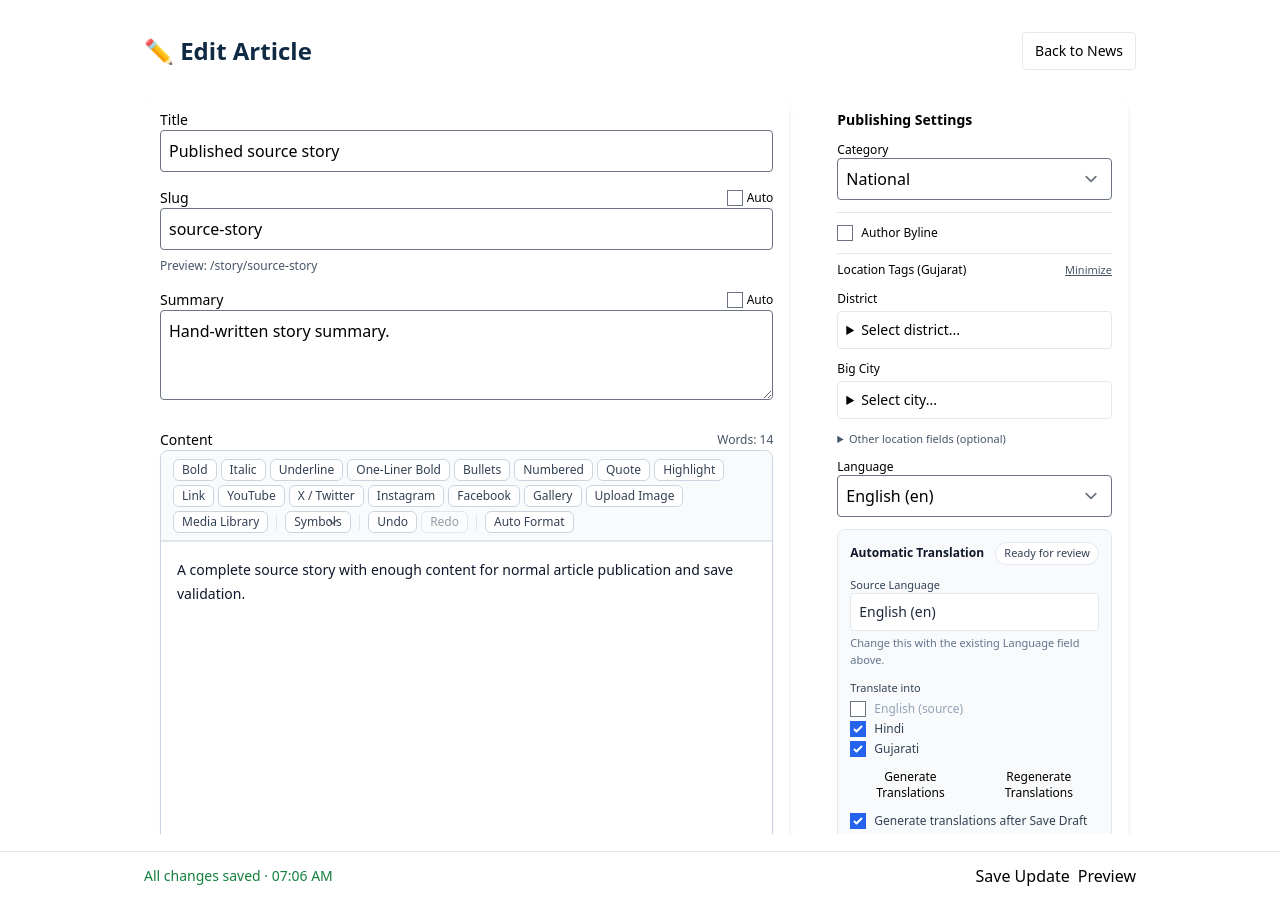
it: Founder Edit Published - Save Update › retains the supported editor and unsaved content if a background article read fails
Replace the text in the field showing "Published source story" below "Title" with "Unsaved page-level edit": (467, 151) left=160, top=130, right=773, bottom=172
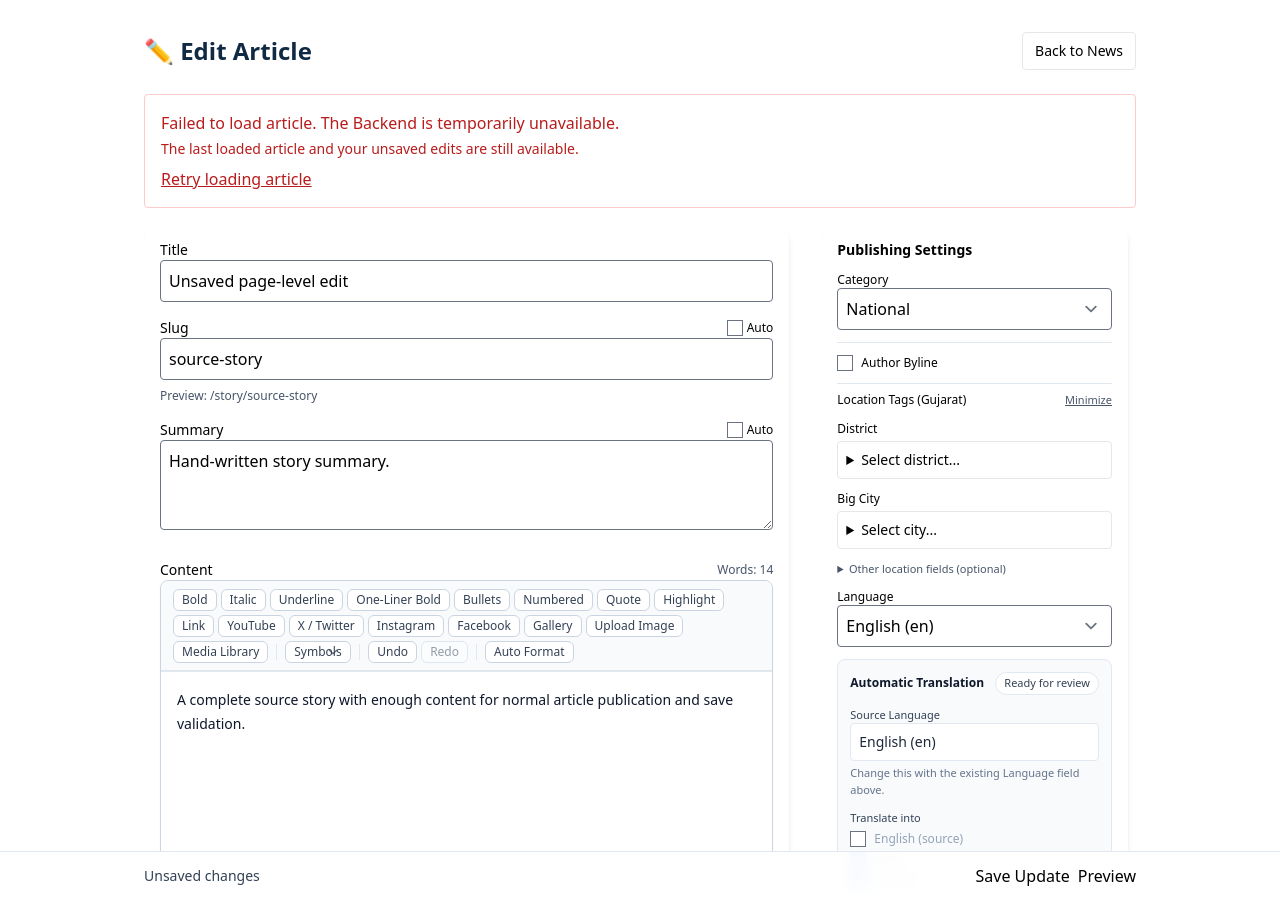
Now the message shows "unsaved edits are still available", box left=161, top=139, right=579, bottom=158
Click the button "Retry loading article": (236, 179) left=161, top=167, right=312, bottom=191
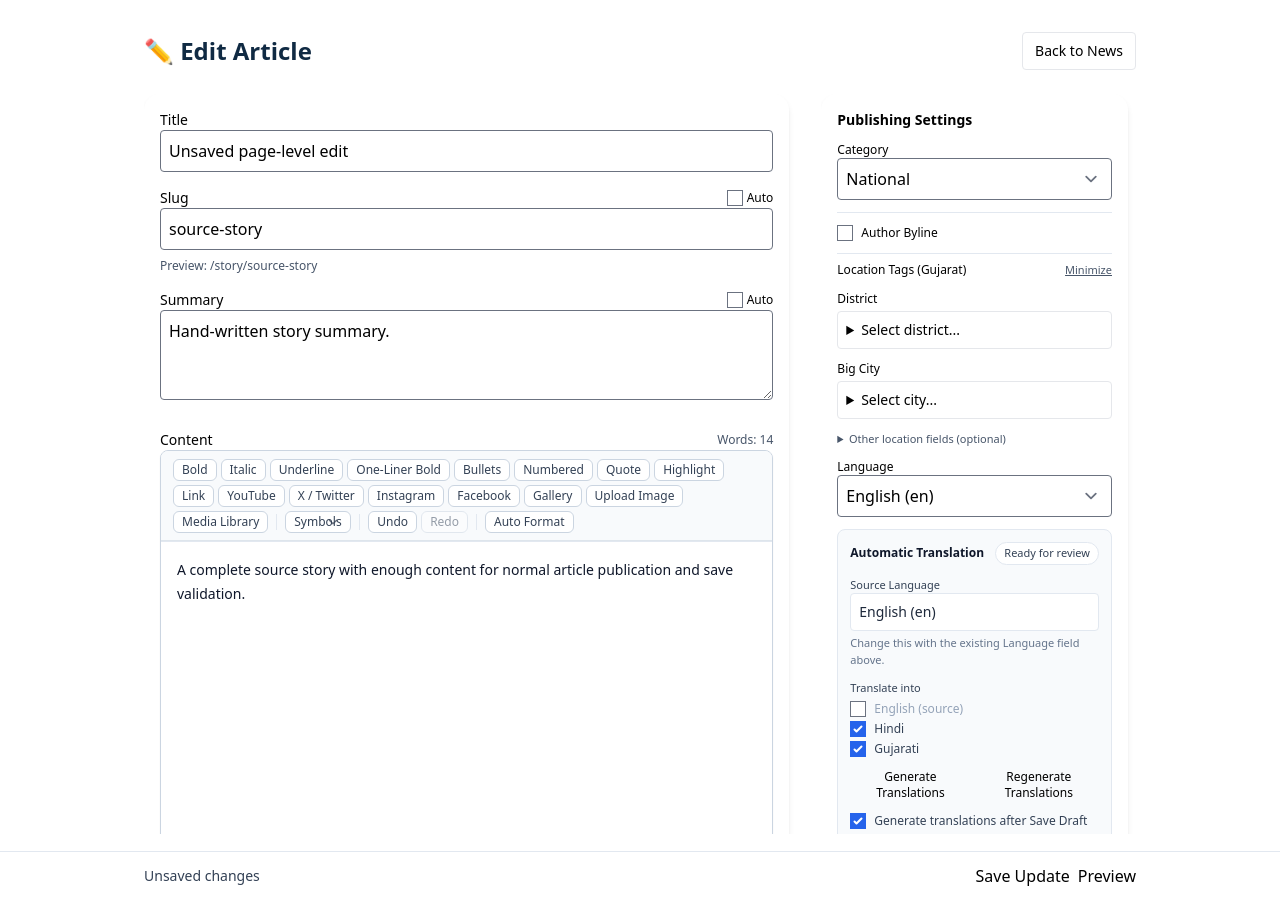
Now the button "Retry loading article" is gone
